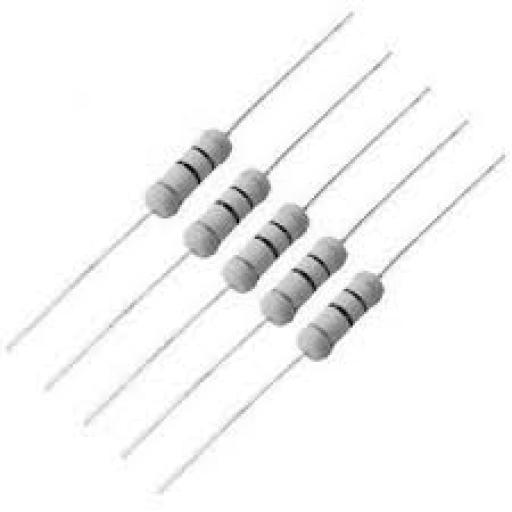RESISTOR: (97, 118, 259, 230), (277, 262, 420, 372), (191, 188, 335, 296), (236, 227, 372, 333), (154, 157, 284, 250)
